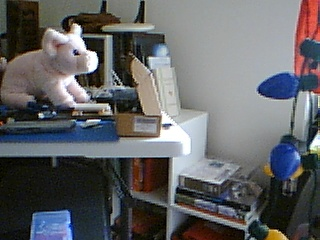piggy: (1, 21, 101, 111)
